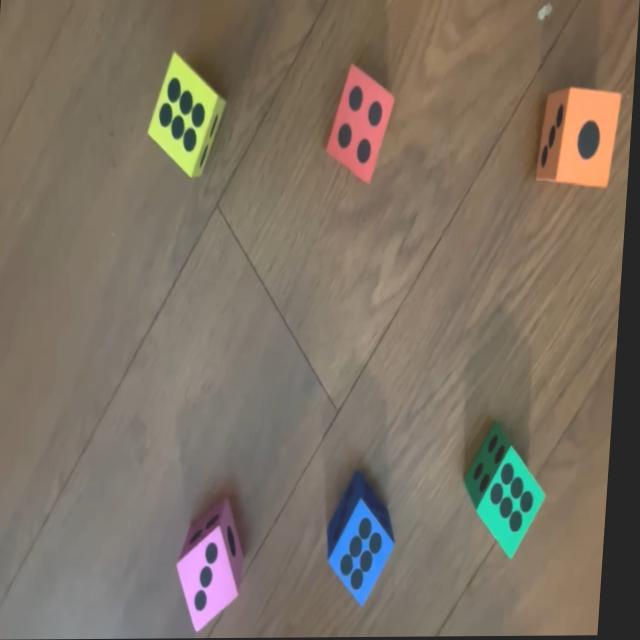cube: (466, 424, 556, 563), (330, 475, 405, 607), (323, 65, 396, 187)
